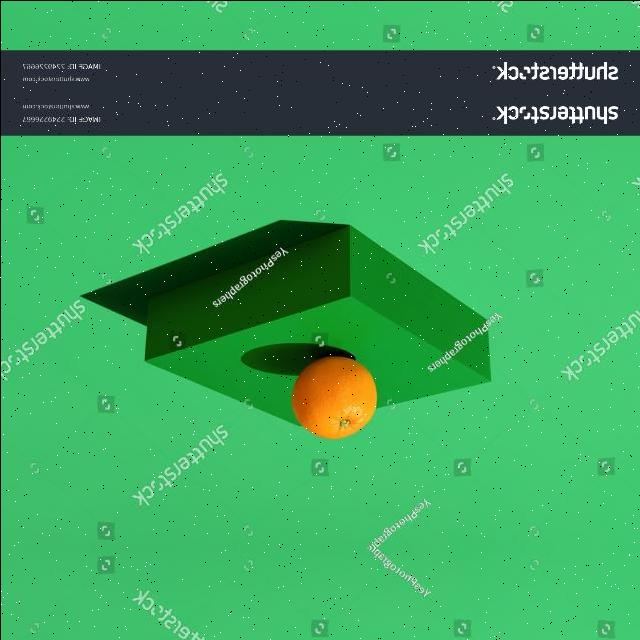Orange: (291, 355, 378, 440)
